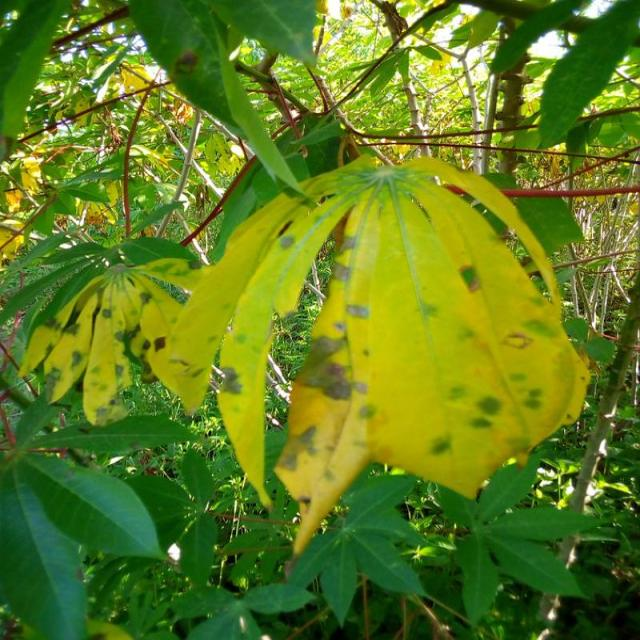cassava leaf: (163, 146, 591, 557), (17, 234, 209, 426)
